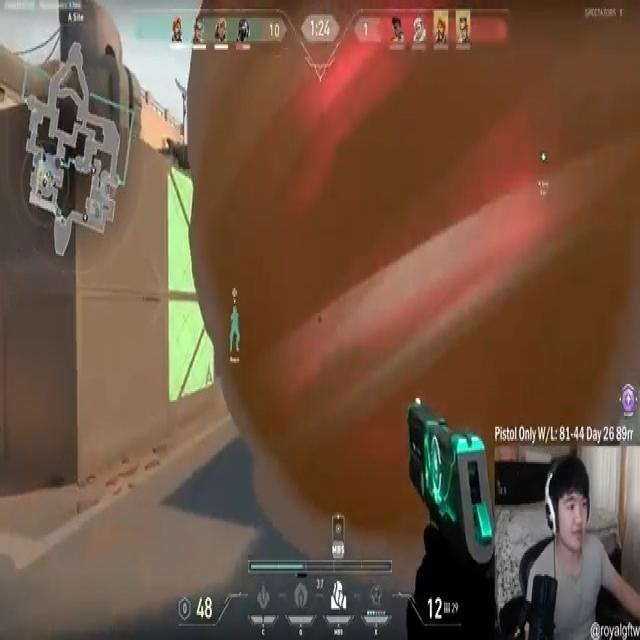smoke: (185, 5, 635, 538)
